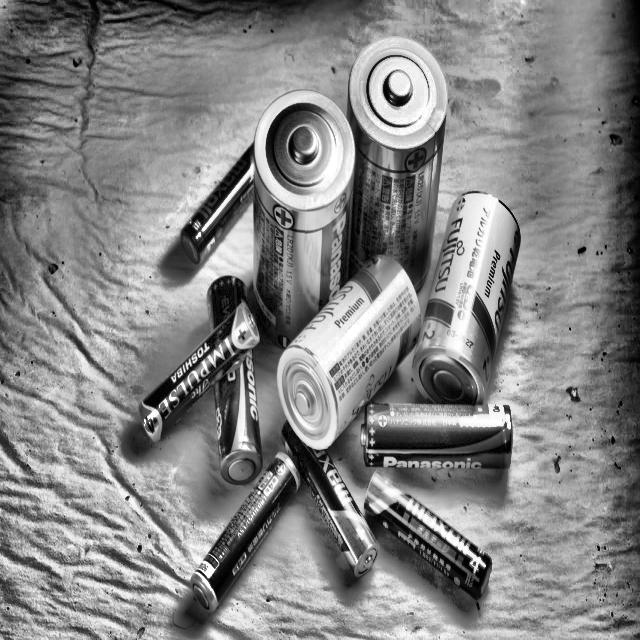drycell: (277, 256, 421, 449), (253, 89, 355, 347), (347, 37, 448, 291), (413, 191, 522, 404), (191, 445, 300, 620), (139, 304, 260, 442), (365, 472, 492, 600), (282, 423, 378, 577), (358, 401, 515, 473), (180, 144, 254, 264), (214, 350, 262, 485), (208, 275, 246, 330)
